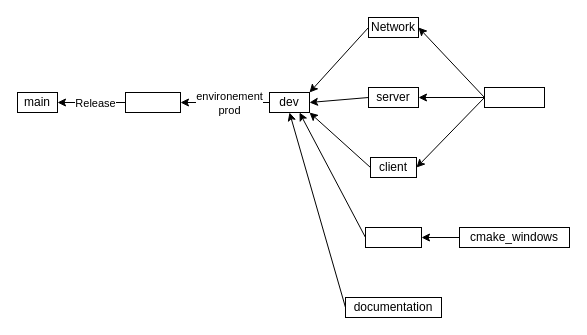
Some shapes in this 587 by 335 pixel diagram are drawn without their labels. Each missing label, with the box of its shape:
cmake: (364, 226, 422, 248)
feature/*: (484, 86, 544, 108)
nightly: (124, 92, 180, 112)
